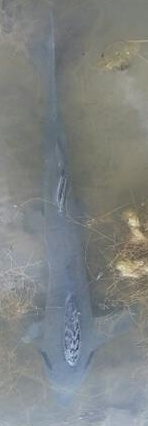Acipenseridae: (20, 20, 128, 406)
